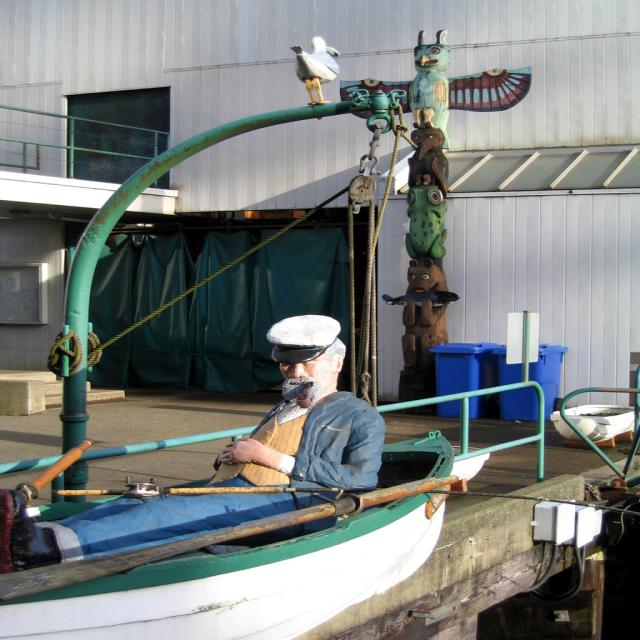Boat: (0, 427, 457, 640)
